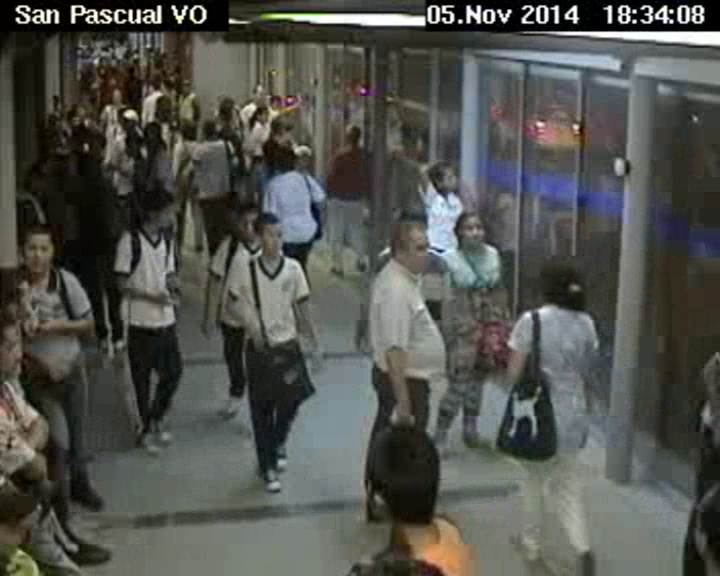person: (360, 413, 447, 527), (1, 460, 55, 574), (529, 254, 591, 319), (387, 219, 434, 279), (1, 307, 35, 379), (19, 226, 60, 275), (142, 188, 178, 236), (449, 210, 485, 251), (423, 158, 462, 191), (231, 205, 267, 237), (26, 157, 53, 193), (261, 213, 283, 256), (271, 144, 297, 174), (339, 119, 367, 145), (249, 85, 273, 111), (114, 106, 141, 129), (217, 96, 238, 125), (270, 119, 294, 142), (153, 94, 172, 118), (127, 138, 149, 158), (182, 119, 199, 144), (143, 123, 161, 143), (253, 105, 269, 125), (205, 119, 216, 142), (267, 96, 286, 109), (50, 96, 64, 113), (111, 87, 124, 105), (147, 78, 160, 95), (67, 109, 80, 125), (178, 79, 191, 92)
